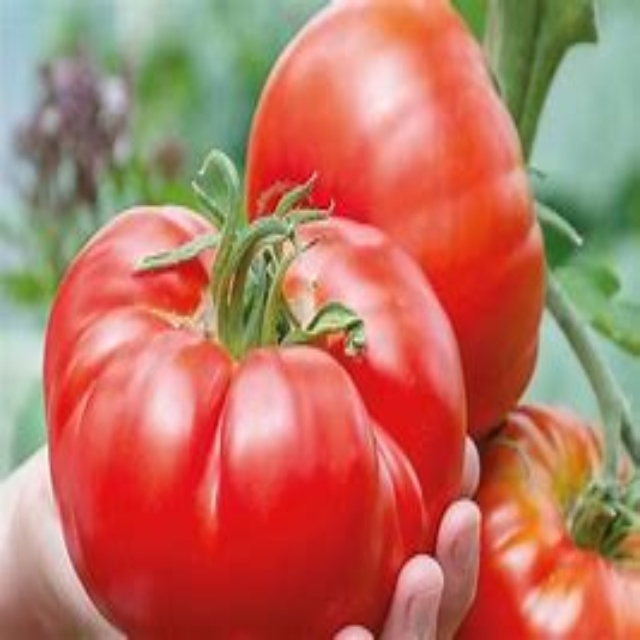tomato: (36, 211, 465, 631), (235, 6, 549, 435), (453, 404, 638, 635)
